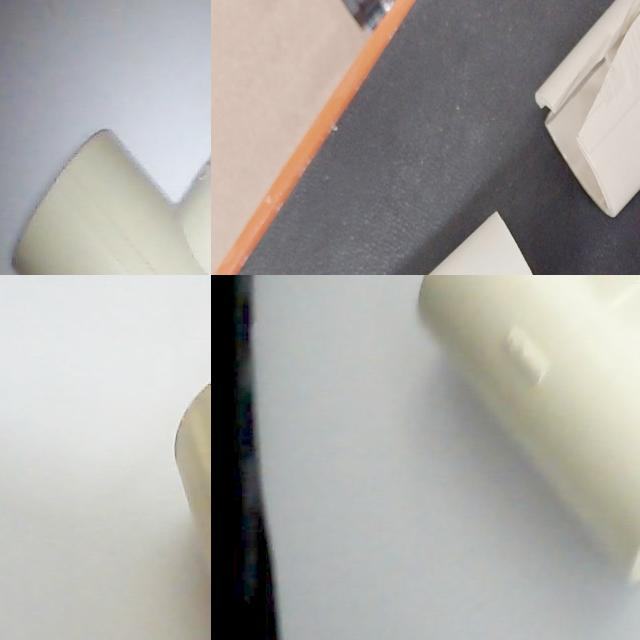Defective: (288, 155, 390, 275), (211, 0, 273, 96), (577, 230, 607, 275)
T Joint: (416, 275, 640, 588), (211, 0, 457, 275), (11, 129, 211, 275)
